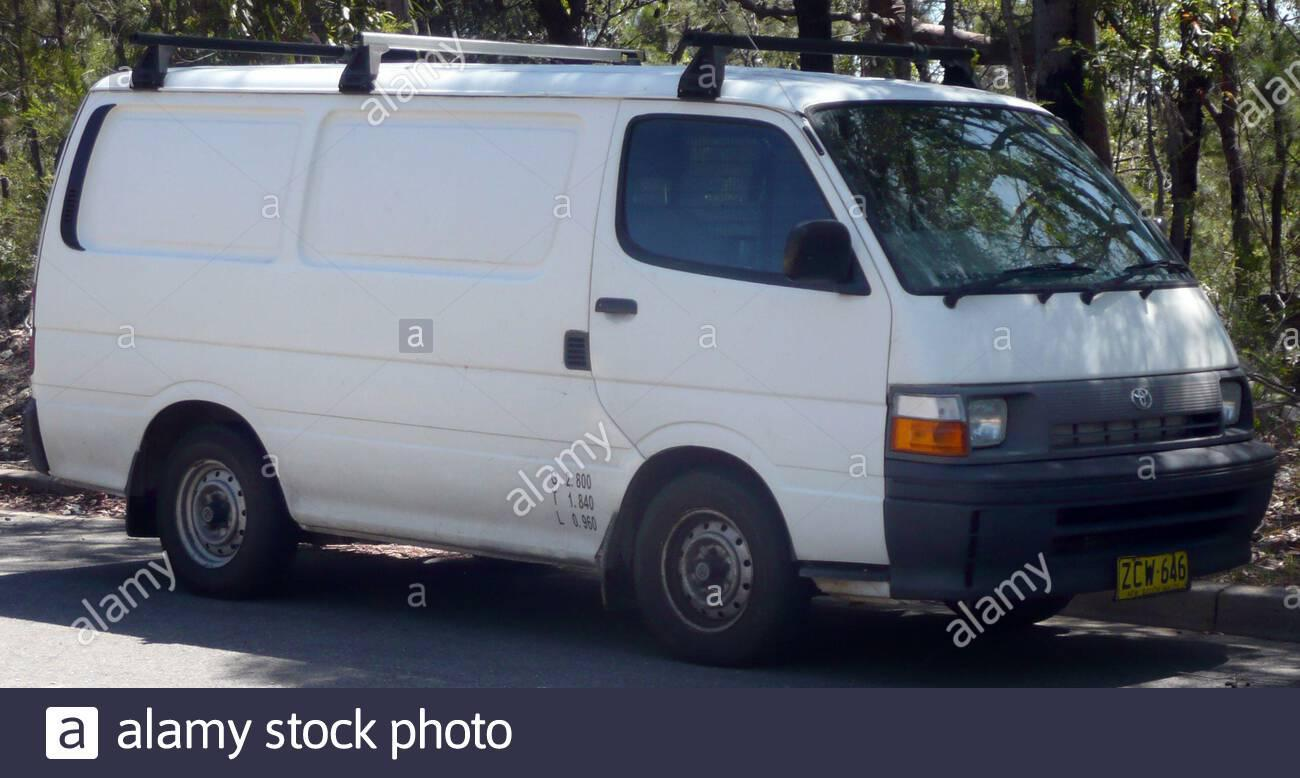Van: (27, 38, 1300, 644)
